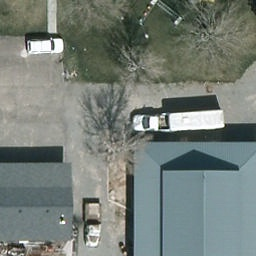camping car: (169, 109, 228, 134)
car: (24, 37, 64, 54)
pickup: (132, 113, 181, 136), (83, 200, 104, 249)
